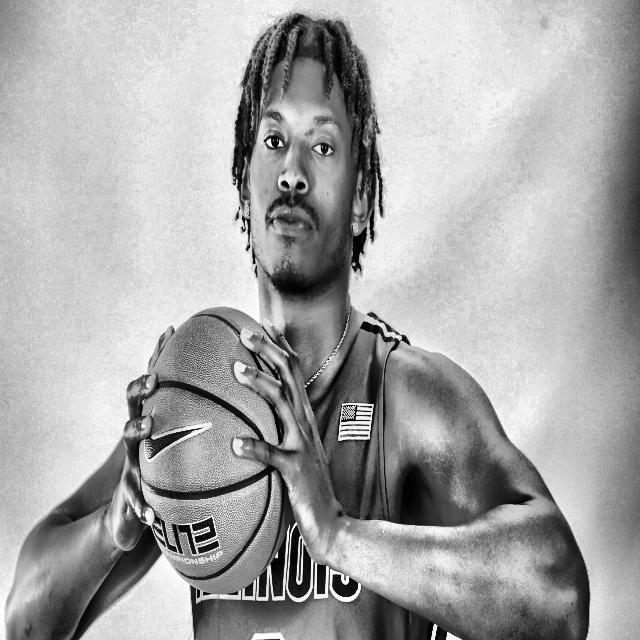Basketball: (139, 307, 292, 599)
